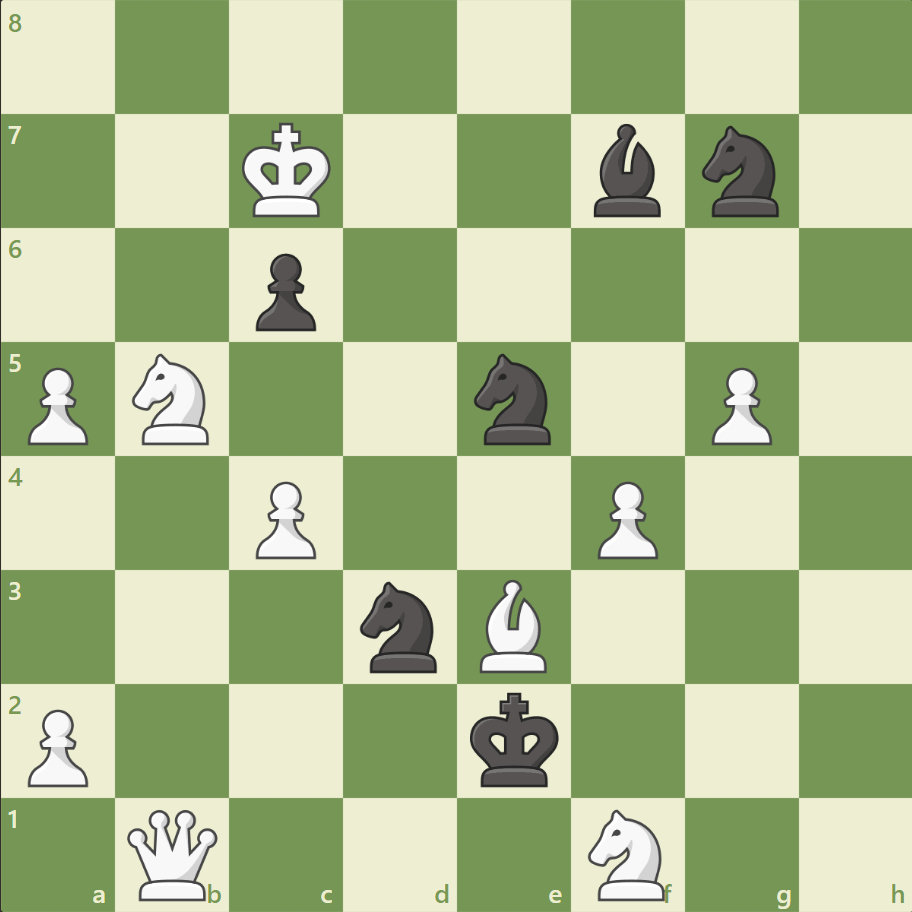B: (471, 574, 555, 676)
K: (238, 117, 338, 225)
N: (124, 348, 222, 450), (579, 802, 676, 904)
P: (20, 359, 95, 450), (701, 359, 776, 450), (247, 473, 322, 564), (20, 700, 95, 791), (588, 473, 662, 564)
Q: (124, 804, 223, 903)
b: (585, 120, 669, 222)
k: (465, 685, 565, 793)
n: (351, 575, 449, 677), (692, 121, 789, 223), (465, 348, 562, 450)
p: (247, 246, 322, 337)
